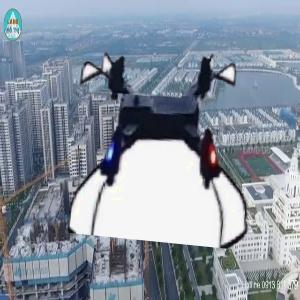drone: (62, 45, 260, 243)
